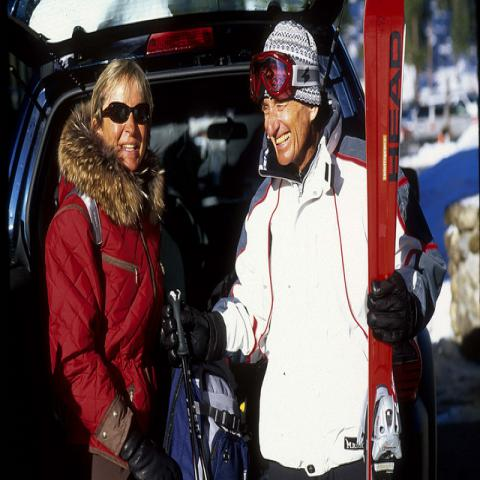car: (0, 0, 438, 479)
